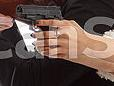gun: (1, 1, 114, 86)
